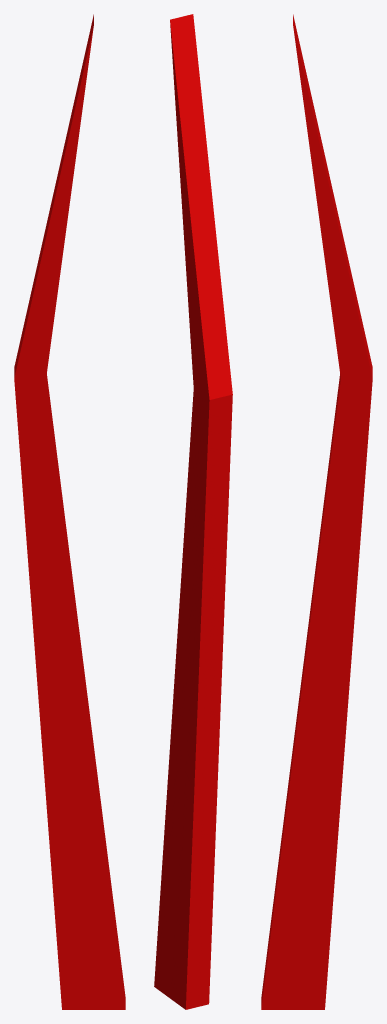
File: grass_bent.fbx
The picture shows the model from 3 angles, left to right: view 1: azimuth 90°, elevation 25°; view 2: azimuth 210°, elevation 25°; view 3: azimuth 270°, elevation 25°; orthographic projection.
Parts seen in each view (by area): view 1: Model; view 2: Model; view 3: Model.
Part boxes in pixels (x1,y1,x2,y2): Model: (14, 14, 125, 1009); Model: (154, 14, 232, 1009); Model: (261, 14, 372, 1009).
Bounding box in the file's own units: 0.17 × 6.82 × 0.7.
